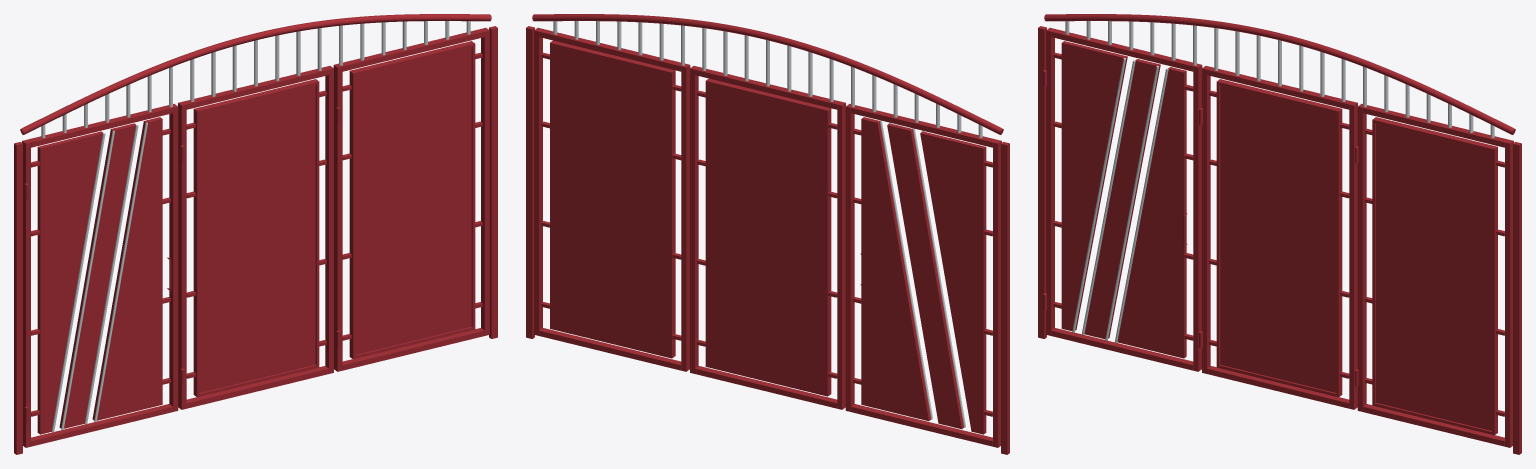
The model's file is red-solid-privacy-gate-13.glb.
3 renders of one model, left to right at view 1: azimuth 30°, elevation 25°; view 2: azimuth 150°, elevation 25°; view 3: azimuth 330°, elevation 25°, orthographic.
Visible parts, largest first — view 1: Leaf 2 / Inset solid privacy panel, Leaf 3 / Inset solid privacy panel, Leaf 1 / Slanted split solid panel, Leaf 3 / Leaf frame, Leaf 2 / Leaf frame, Leaf 1 / Leaf frame, Outer installation jamb, Arched upper grille rail, Leaf 3 / Raised panel molding, Leaf 2 / Raised panel molding, Silver top grille bars, Leaf 1 / Solid panel thickness (+2 smaller); view 2: Leaf 2 / Inset solid privacy panel, Leaf 3 / Inset solid privacy panel, Leaf 1 / Slanted split solid panel, Leaf 3 / Leaf frame, Leaf 1 / Leaf frame, Leaf 2 / Leaf frame, Outer installation jamb, Arched upper grille rail, Silver top grille bars, Leaf 1 / Solid panel thickness, Leaf 1 / Slanted slot trim 1, Leaf 1 / Slanted slot trim 2 (+2 smaller); view 3: Leaf 2 / Inset solid privacy panel, Leaf 3 / Inset solid privacy panel, Leaf 1 / Slanted split solid panel, Leaf 3 / Leaf frame, Leaf 1 / Leaf frame, Leaf 2 / Leaf frame, Outer installation jamb, Arched upper grille rail, Leaf 2 / Raised panel molding, Silver top grille bars, Leaf 3 / Raised panel molding, Leaf 1 / Solid panel thickness (+2 smaller).
Boxes of the visible parts, x1,y1,x2,y2 form: Leaf 2 / Inset solid privacy panel: [193, 79, 317, 395]; Leaf 3 / Inset solid privacy panel: [349, 41, 473, 358]; Leaf 1 / Slanted split solid panel: [40, 119, 162, 434]; Leaf 3 / Leaf frame: [333, 27, 489, 371]; Leaf 2 / Leaf frame: [178, 66, 333, 409]; Leaf 1 / Leaf frame: [22, 103, 178, 447]; Outer installation jamb: [14, 26, 497, 454]; Arched upper grille rail: [20, 14, 491, 134]; Leaf 3 / Raised panel molding: [352, 42, 475, 359]; Leaf 2 / Raised panel molding: [196, 81, 319, 397]; Silver top grille bars: [41, 21, 470, 138]; Leaf 1 / Solid panel thickness: [37, 117, 161, 434]; Leaf 2 / Inset solid privacy panel: [705, 79, 830, 396]; Leaf 3 / Inset solid privacy panel: [550, 41, 674, 358]; Leaf 1 / Slanted split solid panel: [861, 119, 983, 434]; Leaf 3 / Leaf frame: [534, 27, 690, 371]; Leaf 1 / Leaf frame: [845, 103, 1001, 447]; Leaf 2 / Leaf frame: [690, 66, 845, 409]; Outer installation jamb: [526, 26, 1009, 454]; Arched upper grille rail: [532, 14, 1003, 134]; Silver top grille bars: [553, 21, 982, 138]; Leaf 1 / Solid panel thickness: [862, 117, 986, 434]; Leaf 1 / Slanted slot trim 1: [912, 128, 965, 427]; Leaf 1 / Slanted slot trim 2: [879, 120, 932, 419]; Leaf 2 / Inset solid privacy panel: [1218, 79, 1342, 395]; Leaf 3 / Inset solid privacy panel: [1374, 117, 1497, 434]; Leaf 1 / Slanted split solid panel: [1061, 43, 1183, 358]; Leaf 3 / Leaf frame: [1357, 103, 1513, 447]; Leaf 1 / Leaf frame: [1046, 27, 1202, 371]; Leaf 2 / Leaf frame: [1202, 66, 1357, 409]; Outer installation jamb: [1038, 26, 1521, 454]; Arched upper grille rail: [1044, 14, 1515, 134]; Leaf 2 / Raised panel molding: [1216, 81, 1339, 397]; Silver top grille bars: [1065, 21, 1494, 138]; Leaf 3 / Raised panel molding: [1372, 119, 1495, 435]; Leaf 1 / Solid panel thickness: [1062, 41, 1186, 358].
Size of the model in its own units: 3.3 by 2.37 by 0.088.
